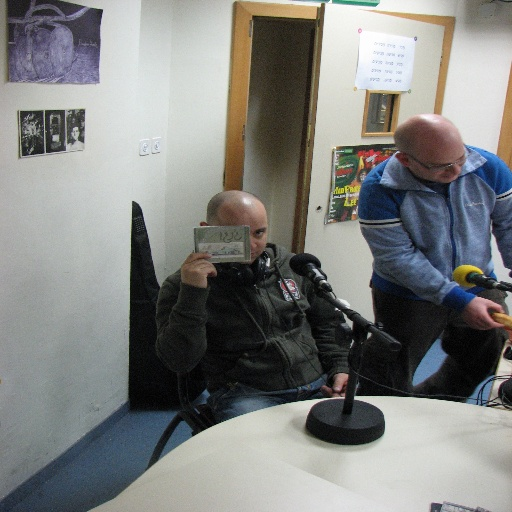hand: (174, 249, 224, 292), (460, 296, 503, 332), (321, 372, 351, 400)
